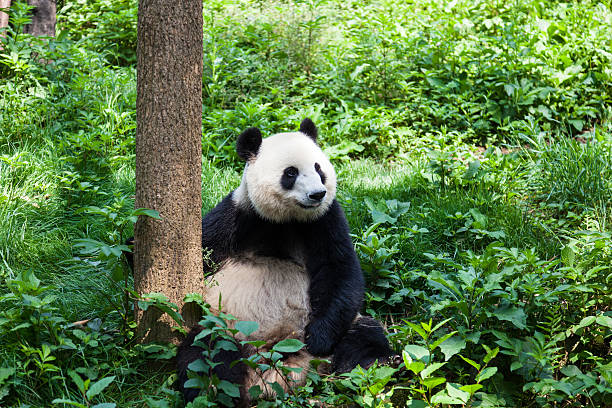panda: (229, 113, 342, 242)
